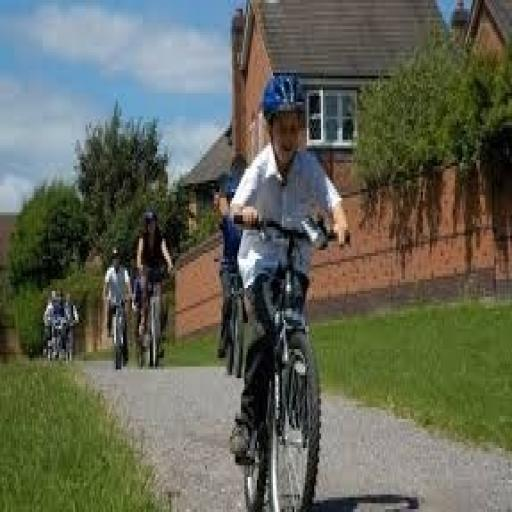cycling: (225, 70, 353, 465), (132, 206, 177, 366), (100, 242, 137, 372)
